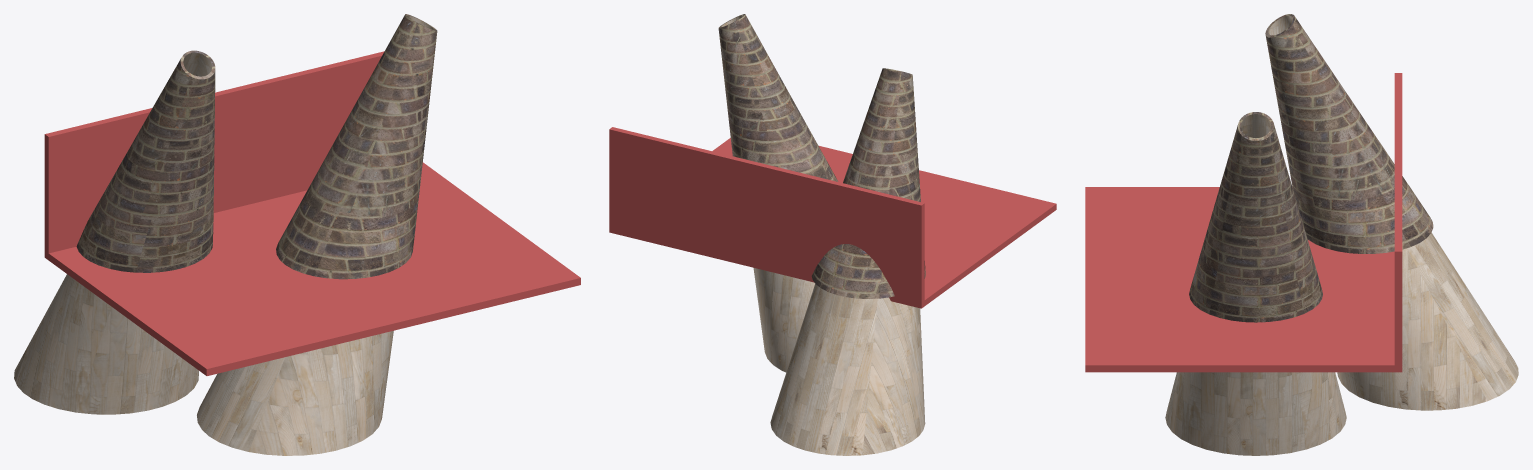
File: In Class Export 2026.fbx
The picture shows the model from 3 angles, left to right: view 1: azimuth 30°, elevation 25°; view 2: azimuth 150°, elevation 25°; view 3: azimuth 270°, elevation 25°; orthographic projection. The views are drawn at different scales.
Parts seen in each view (by area): view 1: Existing Surfaces, Cones Exterior, Cone Interior; view 2: Existing Surfaces, Cone Interior, Cones Exterior; view 3: Existing Surfaces, Cones Exterior, Cone Interior.
Part boxes in pixels (x1=…): Existing Surfaces: x1=44, y1=51, x2=580, y2=375; Cones Exterior: x1=76, y1=14, x2=437, y2=279; Cone Interior: x1=14, y1=15, x2=433, y2=455; Existing Surfaces: x1=609, y1=127, x2=1056, y2=308; Cone Interior: x1=721, y1=15, x2=925, y2=455; Cones Exterior: x1=718, y1=14, x2=925, y2=298; Existing Surfaces: x1=1085, y1=73, x2=1402, y2=372; Cones Exterior: x1=1189, y1=14, x2=1433, y2=322; Cone Interior: x1=1165, y1=15, x2=1518, y2=455.
Size of the model in its own units: 2472 by 2501 by 2327.
Materials: 4 (3 with a texture image).
